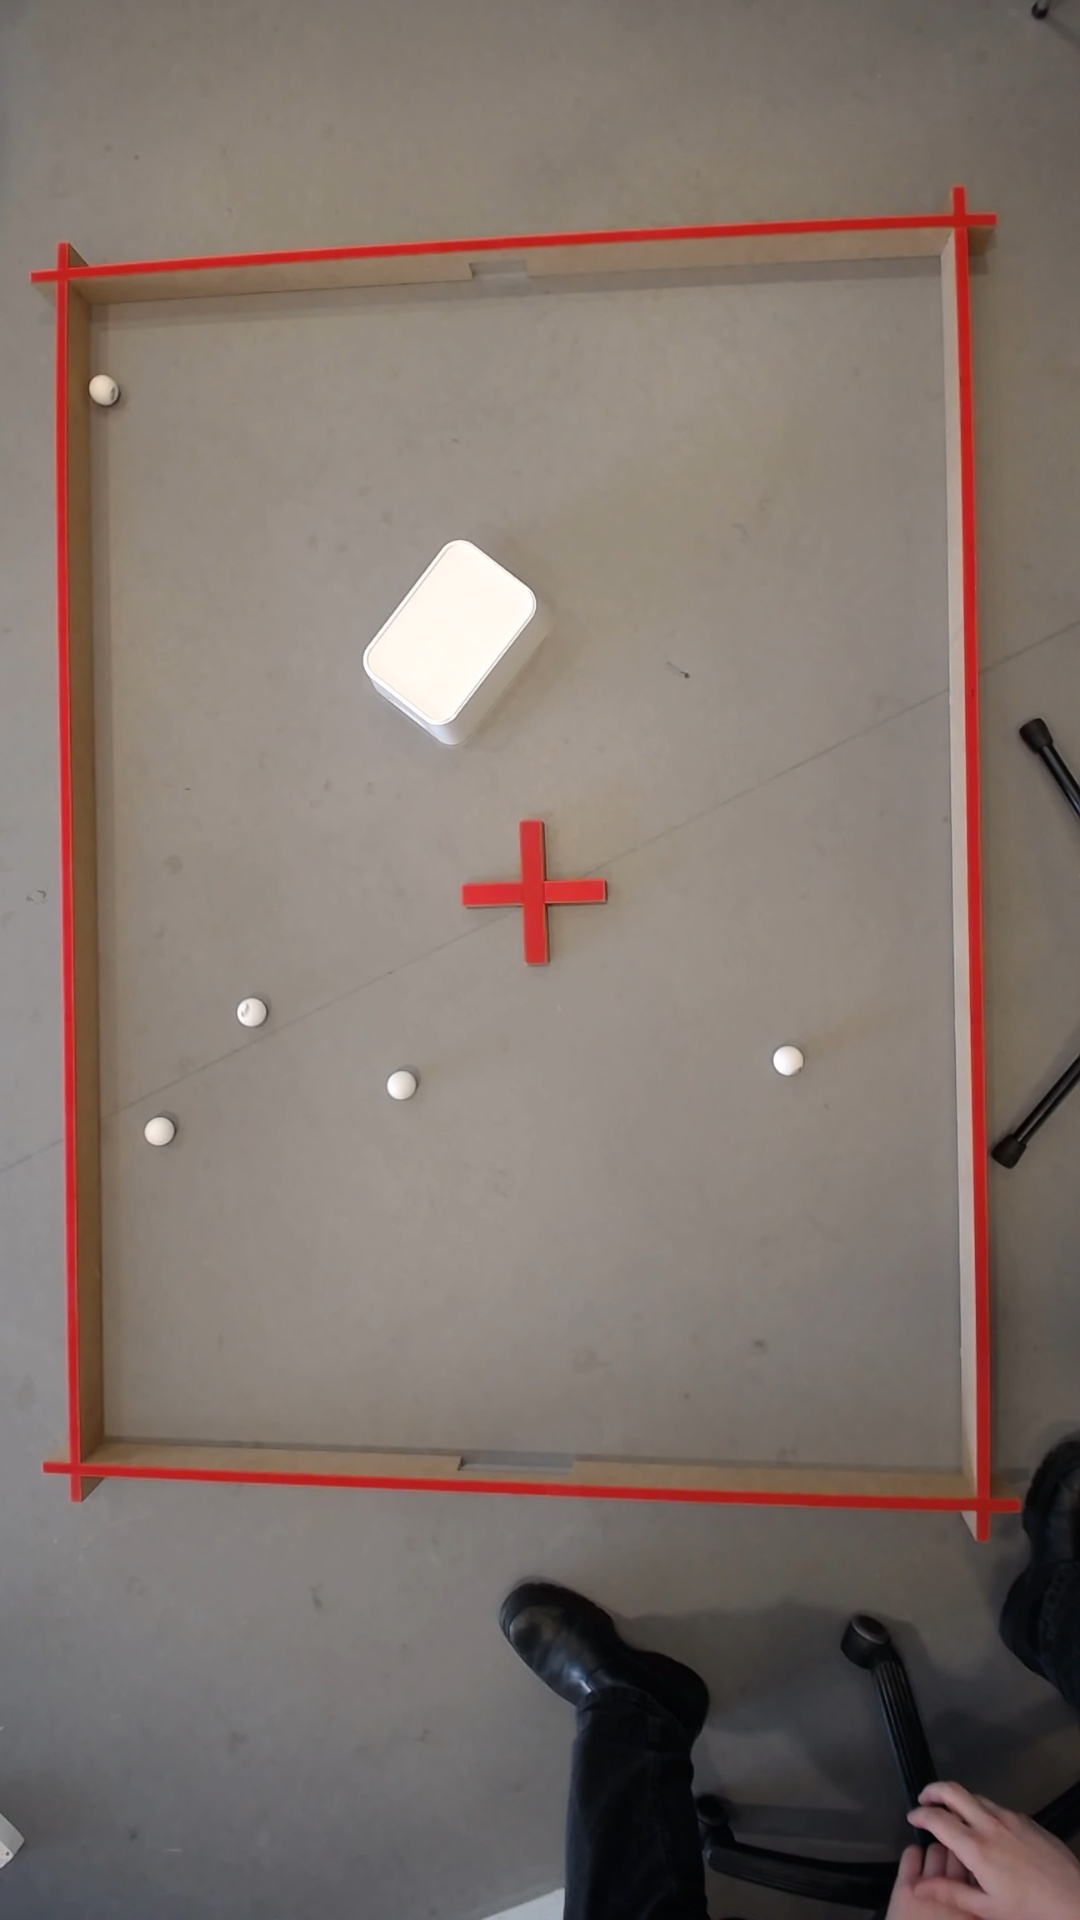balls: (347, 529, 553, 745), (231, 993, 264, 1027), (767, 1043, 800, 1076), (140, 1114, 171, 1146), (382, 1068, 410, 1100)
car: (86, 372, 113, 400)
